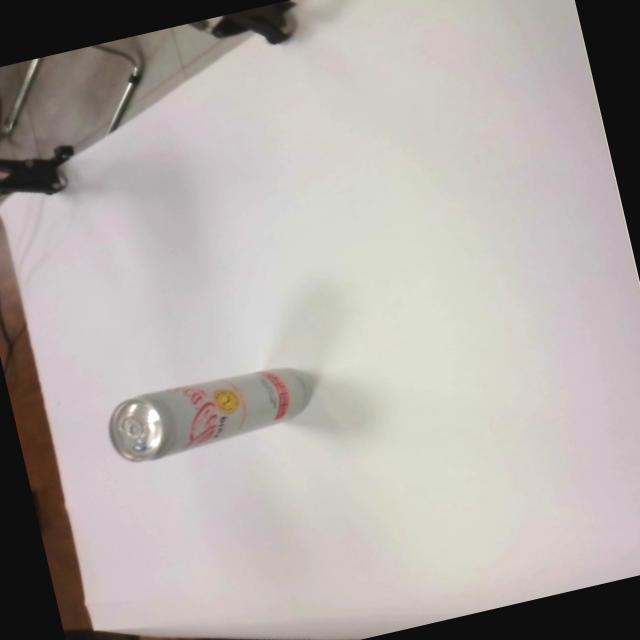debris: (100, 353, 328, 468)
